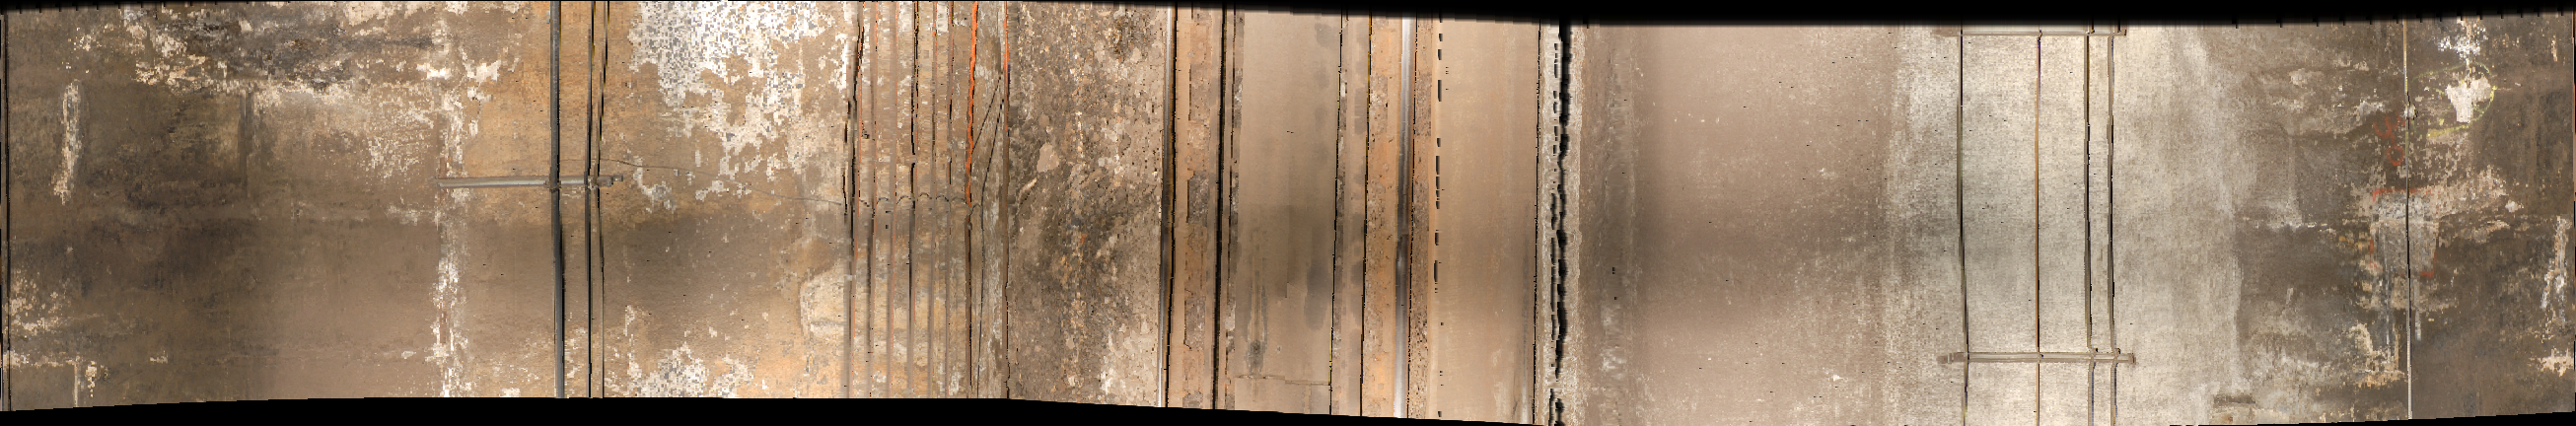pipes: (542, 2, 618, 426), (2077, 26, 2139, 426), (1948, 26, 1988, 426), (2389, 16, 2426, 426), (2027, 31, 2055, 426)
tracks: (1158, 2, 1577, 426)
